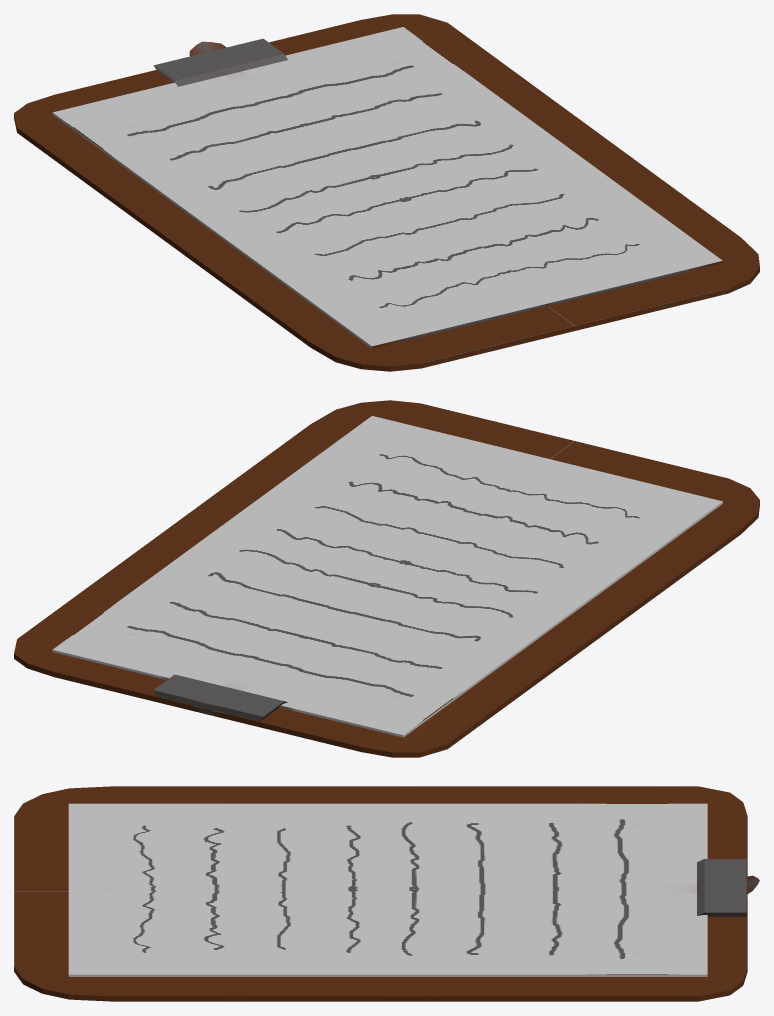
File: Clipboard.fbx
The picture shows the model from 3 angles, top to bottom: view 1: azimuth 30°, elevation 25°; view 2: azimuth 150°, elevation 25°; view 3: azimuth 270°, elevation 25°; orthographic projection.
Visible parts, largest first — view 1: Cube; view 2: Cube; view 3: Cube.
Boxes of the visible parts, x1,y1,x2,y2 form: Cube: (14, 14, 759, 371); Cube: (14, 400, 759, 757); Cube: (14, 786, 759, 1001).
Bounding box in the file's own units: 0.2419 × 0.00866 × 0.3632.
Materials: 2 (2 with a texture image).
